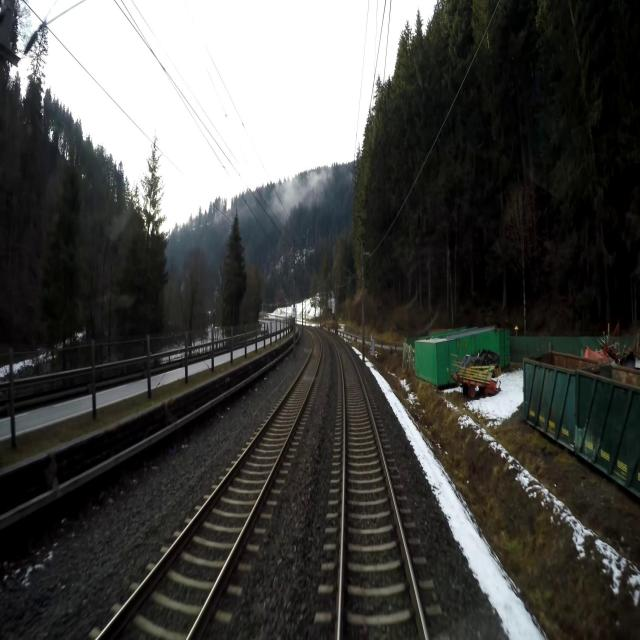rail-track: (100, 333, 319, 639), (333, 338, 424, 639)
